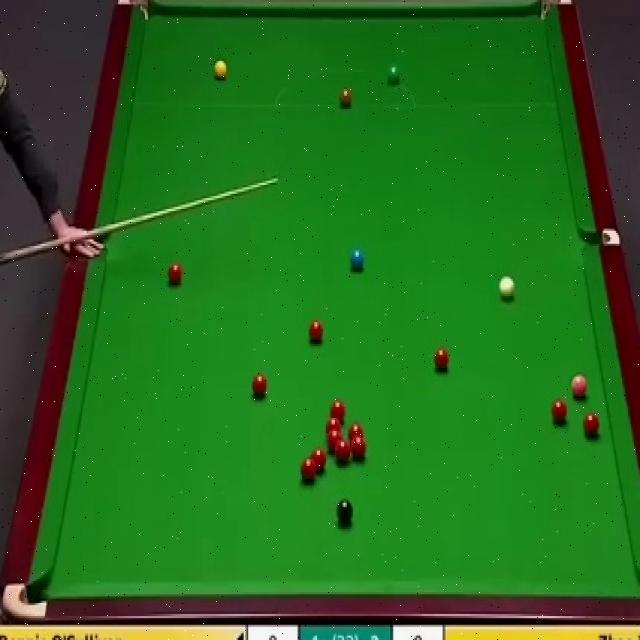black-ball: (336, 496, 353, 528)
blue-ball: (349, 247, 366, 270)
brown-ball: (338, 86, 352, 108)
green-ball: (386, 65, 401, 86)
pink-ball: (571, 372, 588, 400)
red-ball: (250, 372, 269, 402), (300, 458, 318, 484), (311, 450, 329, 476), (552, 398, 570, 424), (350, 436, 367, 462), (583, 413, 601, 437), (434, 346, 450, 373), (308, 320, 324, 344), (335, 439, 350, 463), (167, 264, 181, 289), (328, 400, 346, 418), (327, 431, 342, 451), (326, 416, 341, 434), (348, 425, 364, 440)
white-ball: (498, 275, 514, 302)
yellow-ball: (214, 61, 229, 82)
